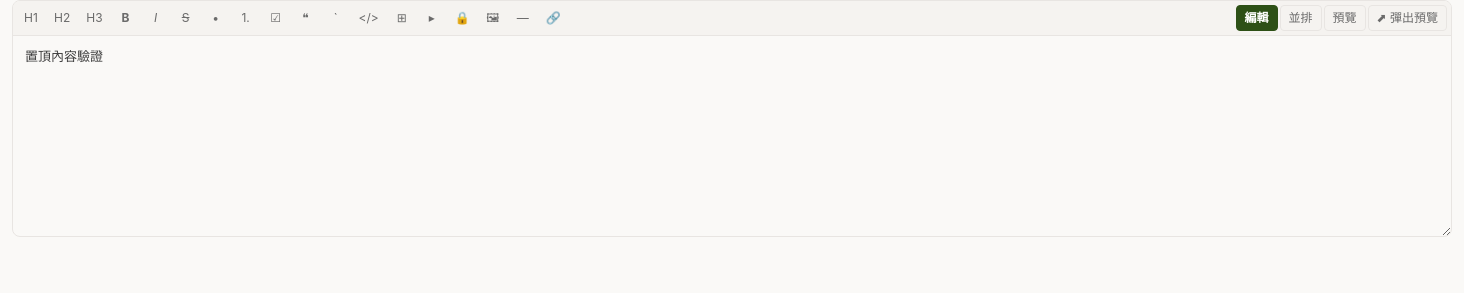
Scenario: popoutAlwaysOnTop（A7~A11） › A8: 支援 PiP → requestWindow 開置頂視窗、不走 window.open、內容渲染進 PiP 文件
Click the button "⬈ 彈出預覽" at (1407, 18), box [1368, 5, 1447, 31]
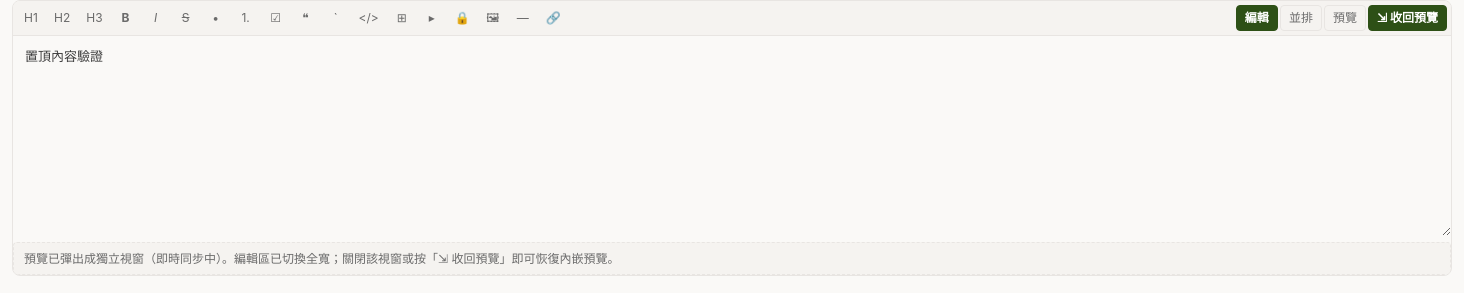
Check: the button "⇲ 收回預覽" is shown, box [1368, 5, 1447, 31]
